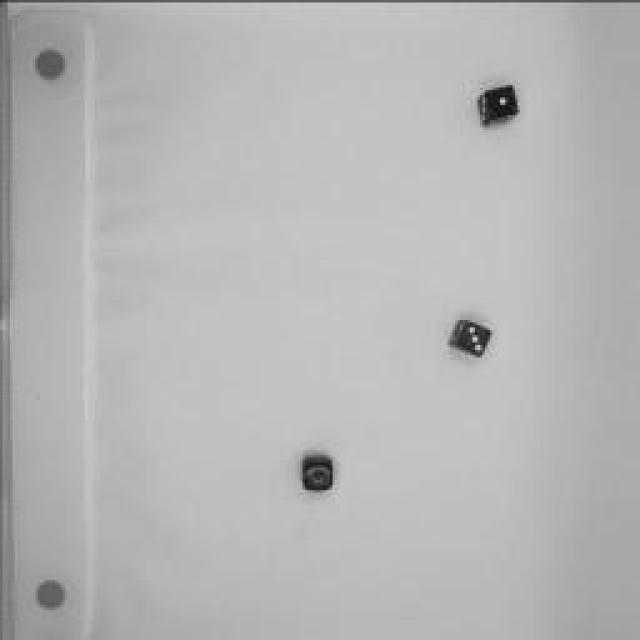dice_1: (470, 79, 525, 131), (299, 453, 339, 495)
dice_3: (441, 312, 499, 362)
